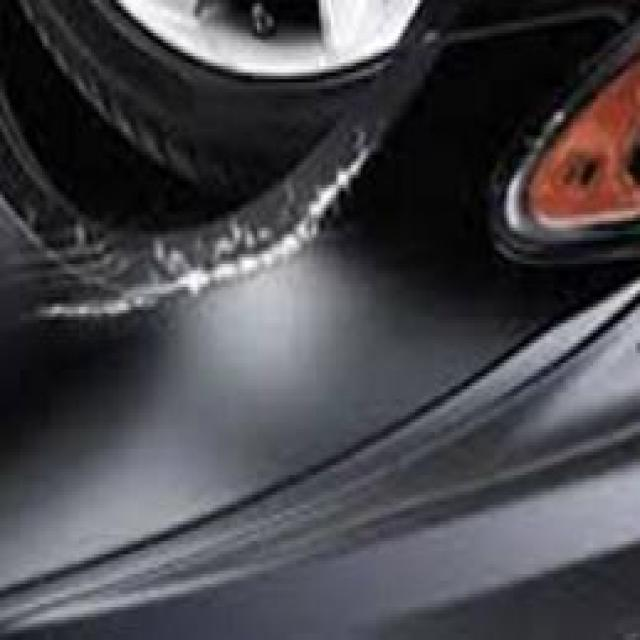scratch: (15, 81, 408, 368)
